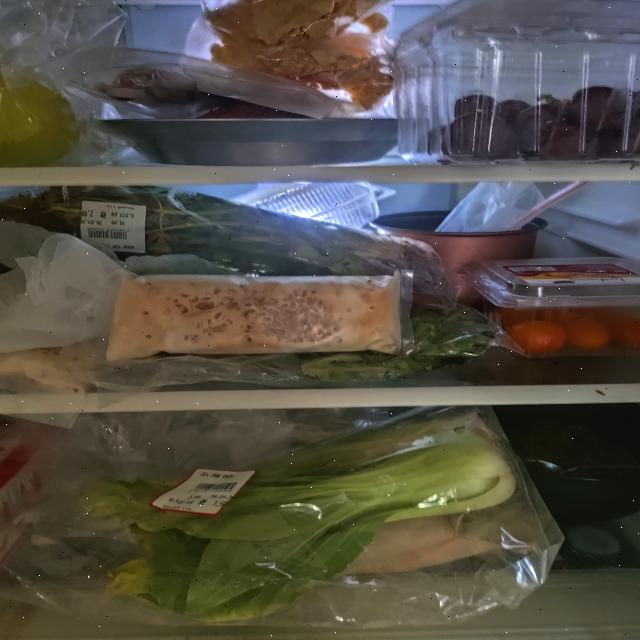grape: (413, 82, 640, 166)
leafy_greens: (54, 185, 458, 313)
pakchoy: (79, 410, 515, 624)
tempeh: (110, 271, 402, 353)
